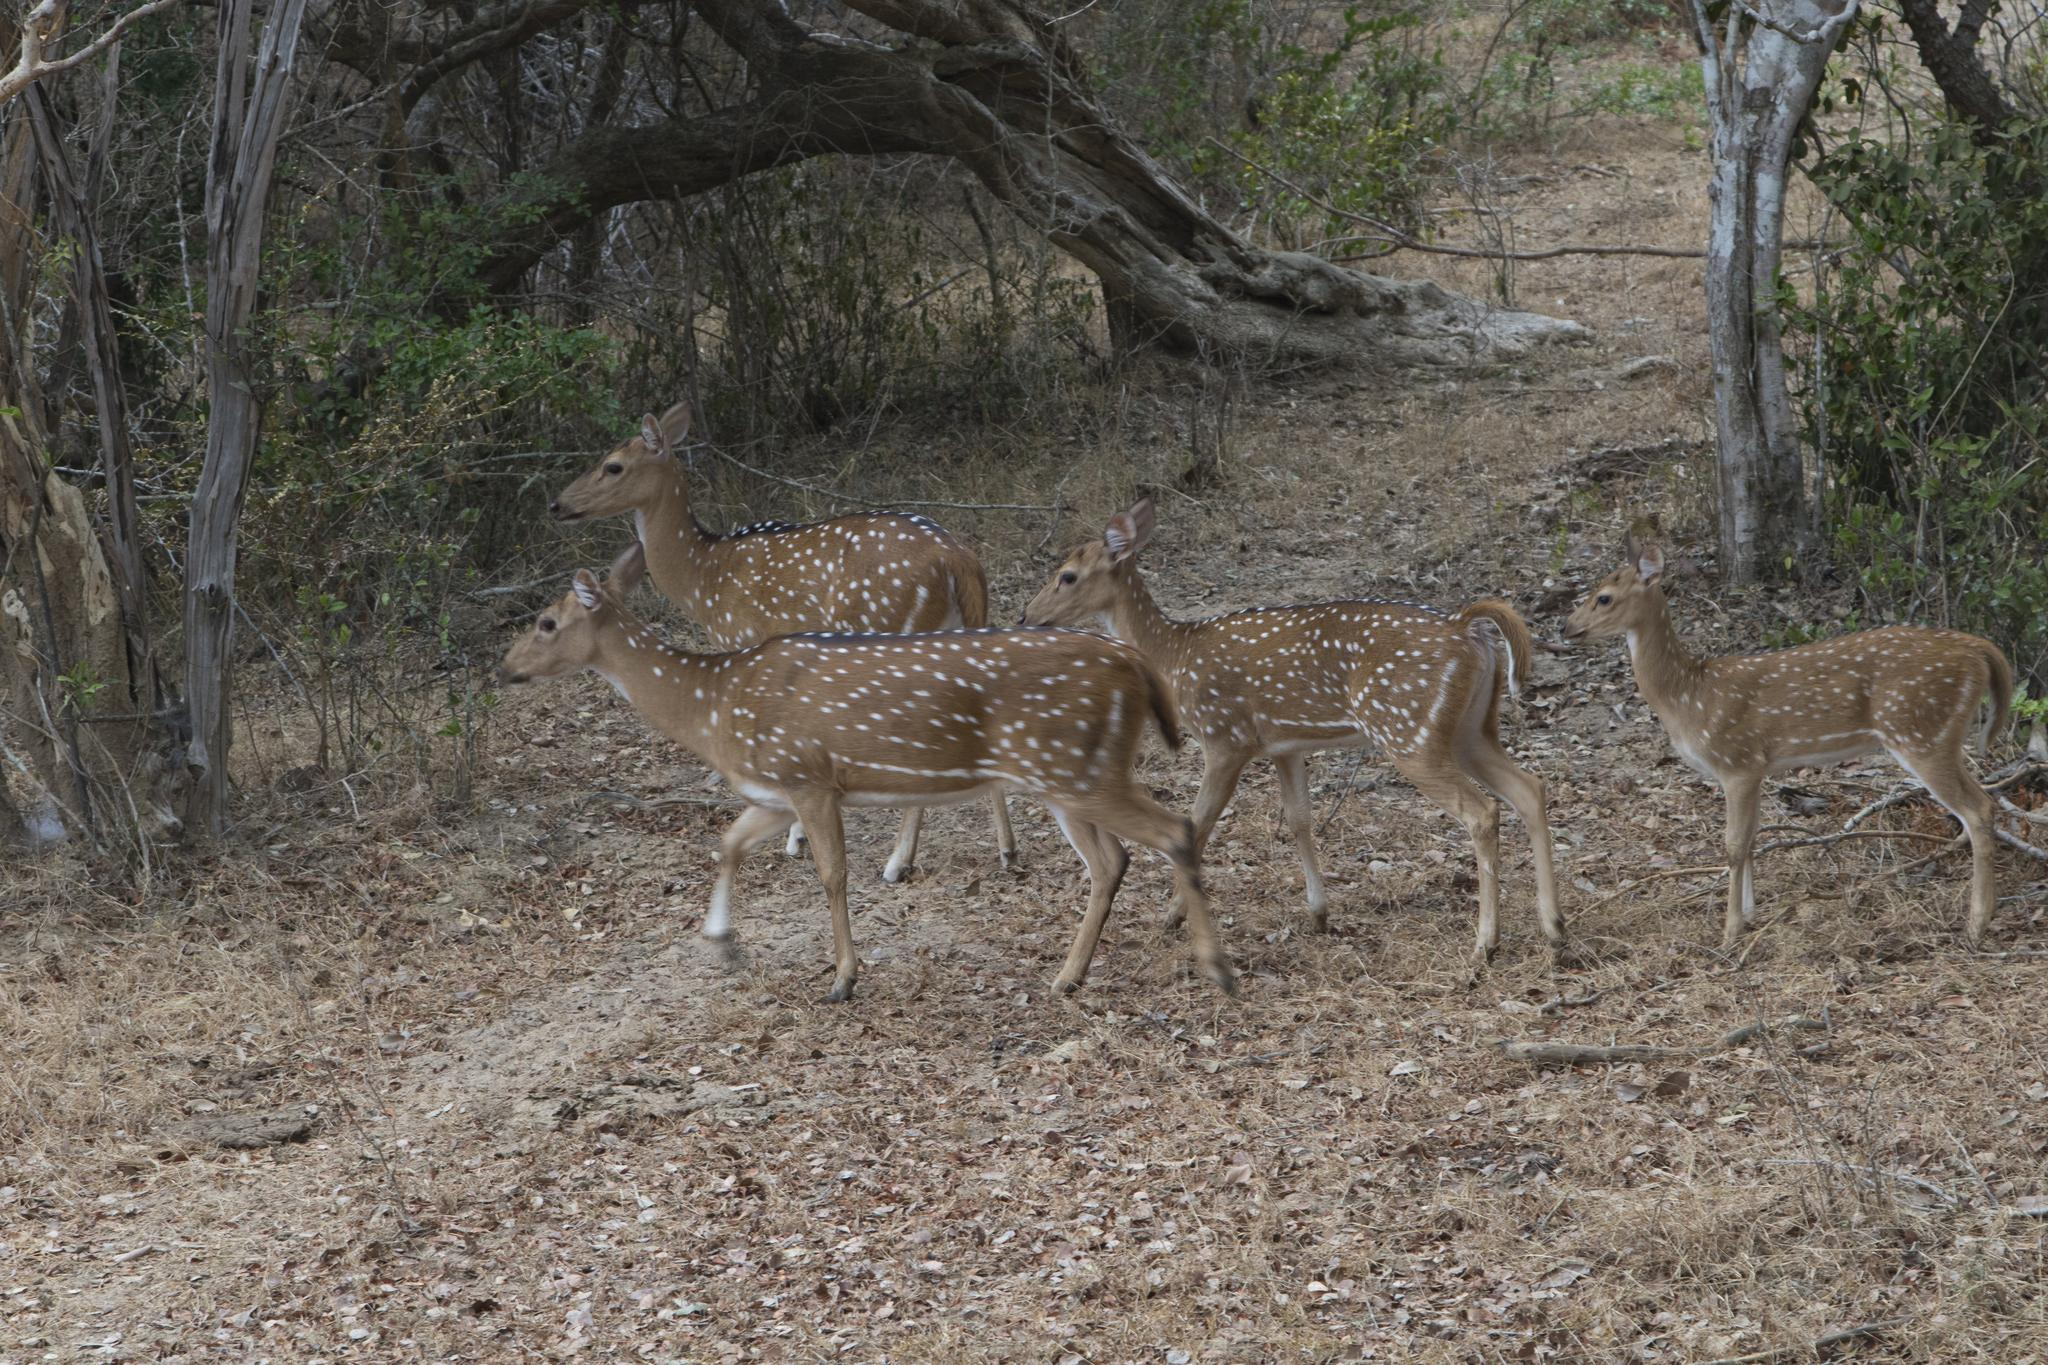Deer: (499, 542, 1233, 999), (1019, 497, 1565, 961), (1564, 535, 2011, 940), (551, 404, 988, 644)
